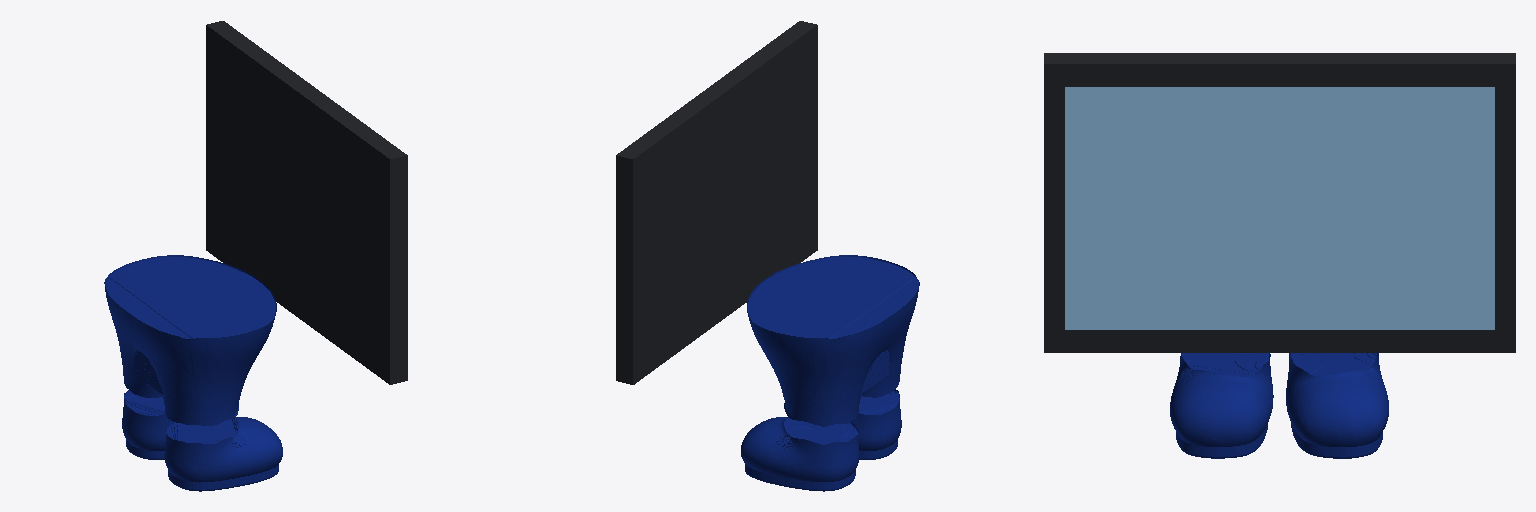
URDF robot description (haetburi):
<?xml version="1.0"?>
<!-- Haetburi biped (v16_xm430) - generated by tools/build_model.py, do not edit by hand -->
<robot name="haetburi">
  <mujoco>
    <compiler meshdir="." balanceinertia="true" discardvisual="false" strippath="false" fusestatic="false"/>
  </mujoco>
  <material name="display"><color rgba="0.18 0.19 0.21 1"/></material>
  <material name="screen"><color rgba="0.62 0.80 0.95 1"/></material>
  <material name="shell"><color rgba="0.106 0.216 0.541 1"/></material>
  <material name="motor"><color rgba="0.15 0.15 0.17 1"/></material>
  <material name="foot"><color rgba="0.25 0.25 0.28 1"/></material>
  <link name="world"/>
  <joint name="floating_base" type="floating">
    <parent link="world"/><child link="pelvis"/>
    <origin xyz="0 0 0" rpy="0 0 0"/>
  </joint>
  <link name="pelvis">
    <inertial>
      <origin xyz="-0.00228866 -0.000165581 0.0508124" rpy="0 0 0"/>
      <mass value="0.746087"/>
      <inertia ixx="0.00260875" ixy="6.1257e-07" ixz="0.000510418" iyy="0.00243468" iyz="-1.43412e-06" izz="0.00290076"/>
    </inertial>
    <visual><origin xyz="0 0 0" rpy="0 0 0"/><geometry><mesh filename="meshes/pelvis.stl"/></geometry><material name="shell"/></visual>
    <visual><origin xyz="0.0120044 0.0405949 0.037" rpy="0 0 0"/><geometry><box size="0.0465 0.0285 0.034"/></geometry><material name="motor"/></visual>
    <visual><origin xyz="0.0119956 -0.0410958 0.037" rpy="0 0 0"/><geometry><box size="0.0465 0.0285 0.034"/></geometry><material name="motor"/></visual>
    <collision><origin xyz="0.0123817 -0.000242574 0.04331" rpy="0 0 0"/><geometry><box size="0.148451 0.197134 0.08662"/></geometry></collision>
  </link>
  <link name="torso">
    <inertial>
      <origin xyz="0.0194673 0.000199278 0.239954" rpy="0 0 0"/>
      <mass value="8.47174"/>
      <inertia ixx="0.382191" ixy="-0.0013163" ixz="0.0546104" iyy="0.382539" iyz="-0.00119915" izz="0.210702"/>
    </inertial>
    <visual><origin xyz="0 0 0" rpy="0 0 0"/><geometry><mesh filename="meshes/torso.stl"/></geometry><material name="shell"/></visual>
    <visual><origin xyz="0.139306 0 0.0706976" rpy="0 0 0"/><geometry><box size="0.019596 0.358692 0.242479"/></geometry><material name="display"/></visual>
    <visual><origin xyz="0.149104 0 0.0706976" rpy="0 0 0"/><geometry><box size="0.0004 0.327168 0.20448"/></geometry><material name="screen"/></visual>
    <collision><origin xyz="-0.0646792 -3.01093e-06 0.0477177" rpy="0 0 0"/><geometry><box size="0.303597 0.20586 0.202729"/></geometry></collision>
    <collision><origin xyz="0.0789804 0.159457 0.0961549" rpy="0 0 0"/><geometry><sphere radius="0.115345"/></geometry></collision>
    <collision><origin xyz="0.0795264 -0.159702 0.0961549" rpy="0 0 0"/><geometry><sphere radius="0.115234"/></geometry></collision>
    <collision><origin xyz="-0.00991337 0.000506978 0.194663" rpy="0 0 0"/><geometry><sphere radius="0.197839"/></geometry></collision>
    <collision><origin xyz="-0.0172744 -0.000233083 0.285763" rpy="0 0 0"/><geometry><sphere radius="0.228247"/></geometry></collision>
    <collision><origin xyz="-0.026304 -0.000384695 0.376879" rpy="0 0 0"/><geometry><sphere radius="0.225604"/></geometry></collision>
    <collision><origin xyz="-0.0206354 0.00162508 0.467989" rpy="0 0 0"/><geometry><sphere radius="0.196171"/></geometry></collision>
    <collision><origin xyz="-0.0122106 0.012863 0.559157" rpy="0 0 0"/><geometry><sphere radius="0.139824"/></geometry></collision>
    <collision><origin xyz="-0.0223776 -0.0042515 0.650244" rpy="0 0 0"/><geometry><sphere radius="0.0811443"/></geometry></collision>
    <collision><origin xyz="0.139306 0 0.0706976" rpy="0 0 0"/><geometry><box size="0.019596 0.358692 0.242479"/></geometry></collision>
  </link>
  <link name="leg_l">
    <inertial>
      <origin xyz="-0.000833421 -0.000300596 -0.0339554" rpy="0 0 0"/>
      <mass value="0.102171"/>
      <inertia ixx="7.18023e-05" ixy="-7.16058e-08" ixz="1.62867e-06" iyy="6.8596e-05" iyz="7.40527e-07" izz="5.28579e-05"/>
    </inertial>
    <visual><origin xyz="0 0 0" rpy="0 0 0"/><geometry><mesh filename="meshes/leg_l.stl"/></geometry><material name="shell"/></visual>
    <collision><origin xyz="-9.39181e-07 -1.29475e-05 -0.0101396" rpy="0 0 0"/><geometry><box size="0.0774375 0.0709459 0.0202791"/></geometry></collision>
  </link>
  <link name="ankle_l">
    <inertial>
      <origin xyz="-0.000852146 -0.000230877 -0.00119636" rpy="0 0 0"/>
      <mass value="0.153678"/>
      <inertia ixx="2.14759e-05" ixy="-5.21669e-07" ixz="-2.70319e-06" iyy="5.43955e-05" iyz="-4.85603e-08" izz="5.94888e-05"/>
    </inertial>
    <visual><origin xyz="0.012 0 0" rpy="0 0 0"/><geometry><box size="0.0465 0.034 0.0285"/></geometry><material name="motor"/></visual>
  </link>
  <link name="foot_l">
    <inertial>
      <origin xyz="0.019483 0.000898793 0.00682364" rpy="0 0 0"/>
      <mass value="0.285271"/>
      <inertia ixx="0.000207611" ixy="-1.29464e-05" ixz="1.92051e-06" iyy="0.00037773" iyz="-4.78019e-08" izz="0.000418217"/>
    </inertial>
    <visual><origin xyz="0 0 0" rpy="0 0 0"/><geometry><mesh filename="meshes/foot_l.stl"/></geometry><material name="shell"/></visual>
    <visual><origin xyz="0 0 0.012" rpy="0 0 0"/><geometry><box size="0.034 0.0285 0.0465"/></geometry><material name="motor"/></visual>
    <collision><origin xyz="0 0 0" rpy="0 0 0"/><geometry><mesh filename="meshes/foot_l.stl"/></geometry></collision>
  </link>
  <link name="leg_r">
    <inertial>
      <origin xyz="-0.000622321 0.000345815 -0.03376" rpy="0 0 0"/>
      <mass value="0.102677"/>
      <inertia ixx="7.27029e-05" ixy="-3.23785e-07" ixz="1.27495e-06" iyy="6.86885e-05" iyz="-8.52978e-07" izz="5.35074e-05"/>
    </inertial>
    <visual><origin xyz="0 0 0" rpy="0 0 0"/><geometry><mesh filename="meshes/leg_r.stl"/></geometry><material name="shell"/></visual>
    <collision><origin xyz="2.24287e-06 2.05258e-05 -0.0100096" rpy="0 0 0"/><geometry><box size="0.0773749 0.0710822 0.0200191"/></geometry></collision>
  </link>
  <link name="ankle_r">
    <inertial>
      <origin xyz="-0.000852146 -0.000230877 -0.00119636" rpy="0 0 0"/>
      <mass value="0.153678"/>
      <inertia ixx="2.14759e-05" ixy="-5.21669e-07" ixz="-2.70319e-06" iyy="5.43955e-05" iyz="-4.85603e-08" izz="5.94888e-05"/>
    </inertial>
    <visual><origin xyz="0.012 0 0" rpy="0 0 0"/><geometry><box size="0.0465 0.034 0.0285"/></geometry><material name="motor"/></visual>
  </link>
  <link name="foot_r">
    <inertial>
      <origin xyz="0.0206219 -0.00108027 0.00675174" rpy="0 0 0"/>
      <mass value="0.284521"/>
      <inertia ixx="0.000206386" ixy="1.42642e-05" ixz="2.84188e-06" iyy="0.000383148" iyz="7.69132e-08" izz="0.000423753"/>
    </inertial>
    <visual><origin xyz="0 0 0" rpy="0 0 0"/><geometry><mesh filename="meshes/foot_r.stl"/></geometry><material name="shell"/></visual>
    <visual><origin xyz="0 0 0.012" rpy="0 0 0"/><geometry><box size="0.034 0.0285 0.0465"/></geometry><material name="motor"/></visual>
    <collision><origin xyz="0 0 0" rpy="0 0 0"/><geometry><mesh filename="meshes/foot_r.stl"/></geometry></collision>
  </link>
  <joint name="waist_fixed" type="fixed">
    <parent link="pelvis"/><child link="torso"/>
    <origin xyz="0 0 0.08662" rpy="0 0 0"/>
  </joint>
  <joint name="hip_yaw_l" type="revolute">
    <parent link="pelvis"/><child link="leg_l"/>
    <origin xyz="4.37245e-06 0.0405949 0" rpy="0 0 0"/>
    <axis xyz="0 0 1"/>
    <limit lower="-0.523599" upper="0.523599" effort="4.1" velocity="4.82"/>
    <dynamics damping="0.29285714285714287" friction="0.11714285714285713"/>
  </joint>
  <joint name="hip_yaw_r" type="revolute">
    <parent link="pelvis"/><child link="leg_r"/>
    <origin xyz="-4.37245e-06 -0.0410958 0" rpy="0 0 0"/>
    <axis xyz="0 0 1"/>
    <limit lower="-0.523599" upper="0.523599" effort="4.1" velocity="4.82"/>
    <dynamics damping="0.29285714285714287" friction="0.11714285714285713"/>
  </joint>
  <joint name="ankle_pitch_l" type="revolute">
    <parent link="leg_l"/><child link="ankle_l"/>
    <origin xyz="0.022562 0.00266644 -0.06945" rpy="0 0 0"/>
    <axis xyz="0 1 0"/>
    <limit lower="-0.261799" upper="0.261799" effort="4.1" velocity="4.82"/>
    <dynamics damping="0.29285714285714287" friction="0.11714285714285713"/>
  </joint>
  <joint name="ankle_pitch_r" type="revolute">
    <parent link="leg_r"/><child link="ankle_r"/>
    <origin xyz="0.0206307 -0.000449521 -0.06945" rpy="0 0 0"/>
    <axis xyz="0 1 0"/>
    <limit lower="-0.261799" upper="0.261799" effort="4.1" velocity="4.82"/>
    <dynamics damping="0.29285714285714287" friction="0.11714285714285713"/>
  </joint>
  <joint name="ankle_roll_l" type="revolute">
    <parent link="ankle_l"/><child link="foot_l"/>
    <origin xyz="-0.03111 -0.00099 -0.00513" rpy="0 0 0"/>
    <axis xyz="1 0 0"/>
    <limit lower="-0.20944" upper="0.20944" effort="4.1" velocity="4.82"/>
    <dynamics damping="0.29285714285714287" friction="0.11714285714285713"/>
  </joint>
  <joint name="ankle_roll_r" type="revolute">
    <parent link="ankle_r"/><child link="foot_r"/>
    <origin xyz="-0.03111 -0.00099 -0.00513" rpy="0 0 0"/>
    <axis xyz="1 0 0"/>
    <limit lower="-0.20944" upper="0.20944" effort="4.1" velocity="4.82"/>
    <dynamics damping="0.29285714285714287" friction="0.11714285714285713"/>
  </joint>
</robot>

--- Render facts (derived) ---
Views: 3 orthographic renders of the robot side by side, from view 1: azimuth 30°, elevation 25°; view 2: azimuth 150°, elevation 25°; view 3: azimuth 270°, elevation 25°.
Robot: haetburi — 9 links, 8 joints (6 revolute, 1 fixed, 1 floating); root link world; default pose: all joints at 0.
Links seen in each view (by area): view 1: torso, pelvis, foot_r, foot_l, leg_r; view 2: torso, pelvis, foot_l, foot_r, leg_l; view 3: torso, foot_r, foot_l.
Link boxes in pixels (left/top/right/bottom): torso: left=206, top=21, right=407, bottom=384; pelvis: left=104, top=255, right=276, bottom=410; foot_r: left=164, top=417, right=282, bottom=491; foot_l: left=122, top=390, right=172, bottom=459; leg_r: left=163, top=398, right=239, bottom=425; torso: left=616, top=21, right=817, bottom=384; pelvis: left=747, top=255, right=919, bottom=410; foot_l: left=741, top=417, right=858, bottom=491; foot_r: left=851, top=389, right=901, bottom=459; leg_l: left=783, top=396, right=860, bottom=426; torso: left=1044, top=53, right=1515, bottom=352; foot_r: left=1170, top=353, right=1273, bottom=458; foot_l: left=1286, top=353, right=1388, bottom=458.
Size in the robot's own frame: 0.2111 by 0.3587 by 0.3673 metres.
Meshes: 6 distinct files referenced, 5 mesh visuals loaded (5 binary STL); not drawn: 1 (reference not matched to a file when rendering).
